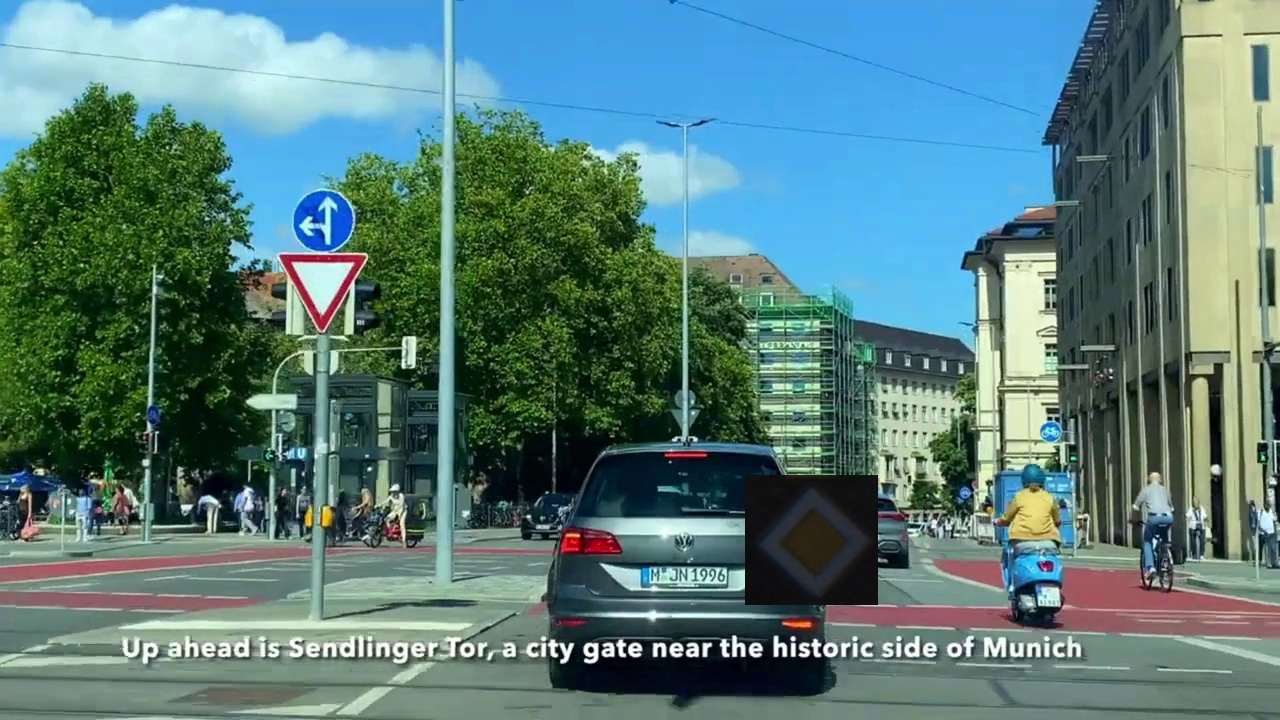Priority road: (745, 475, 878, 605)
